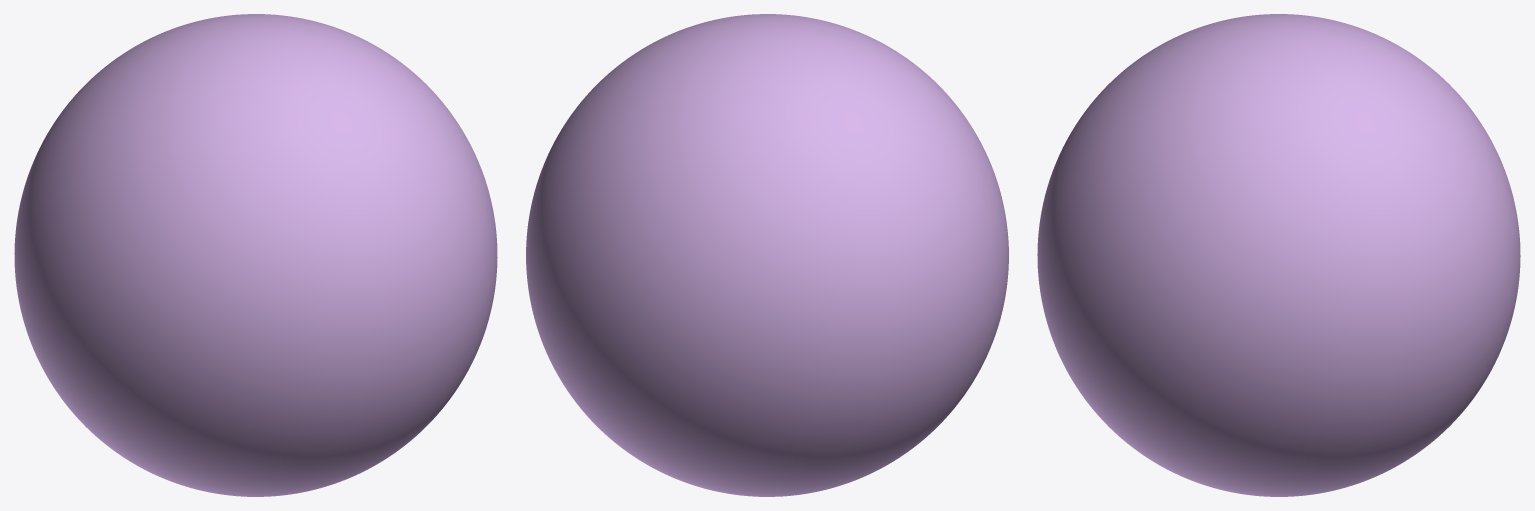
The model's file is beta.glb.
The picture shows the model from 3 angles, left to right: view 1: azimuth 30°, elevation 25°; view 2: azimuth 150°, elevation 25°; view 3: azimuth 270°, elevation 25°; orthographic projection.
Parts seen in each view (by area): view 1: Clouds.002; view 2: Clouds.002; view 3: Clouds.002.
Boxes of the visible parts, left/top/right/bottom form: Clouds.002: left=14, top=14, right=497, bottom=496; Clouds.002: left=526, top=14, right=1008, bottom=496; Clouds.002: left=1037, top=14, right=1520, bottom=496.
Size of the model in its own units: 2.01 by 2.01 by 2.01.
